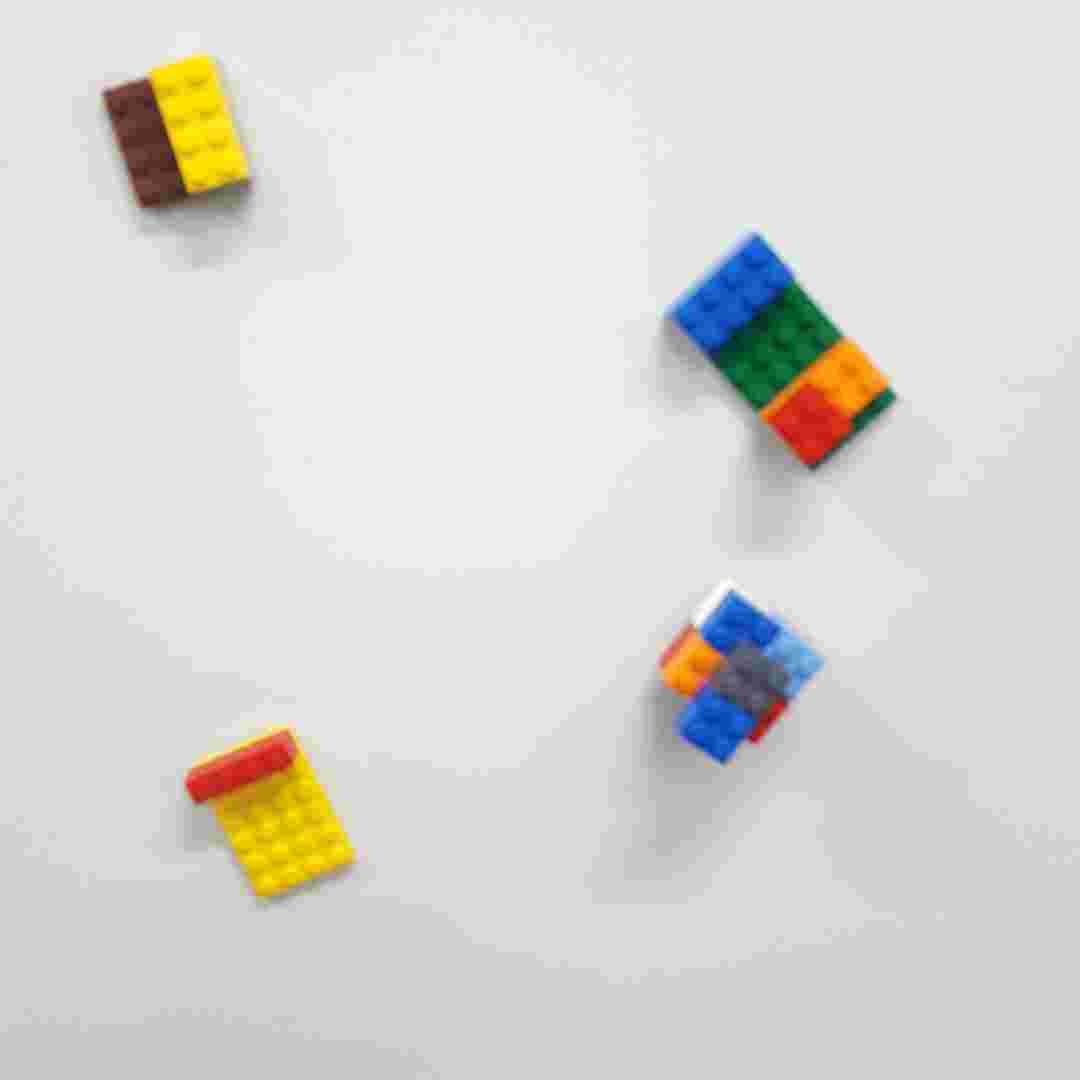LEGO: (653, 224, 903, 477), (647, 573, 833, 765), (181, 717, 362, 904), (97, 50, 258, 211)
